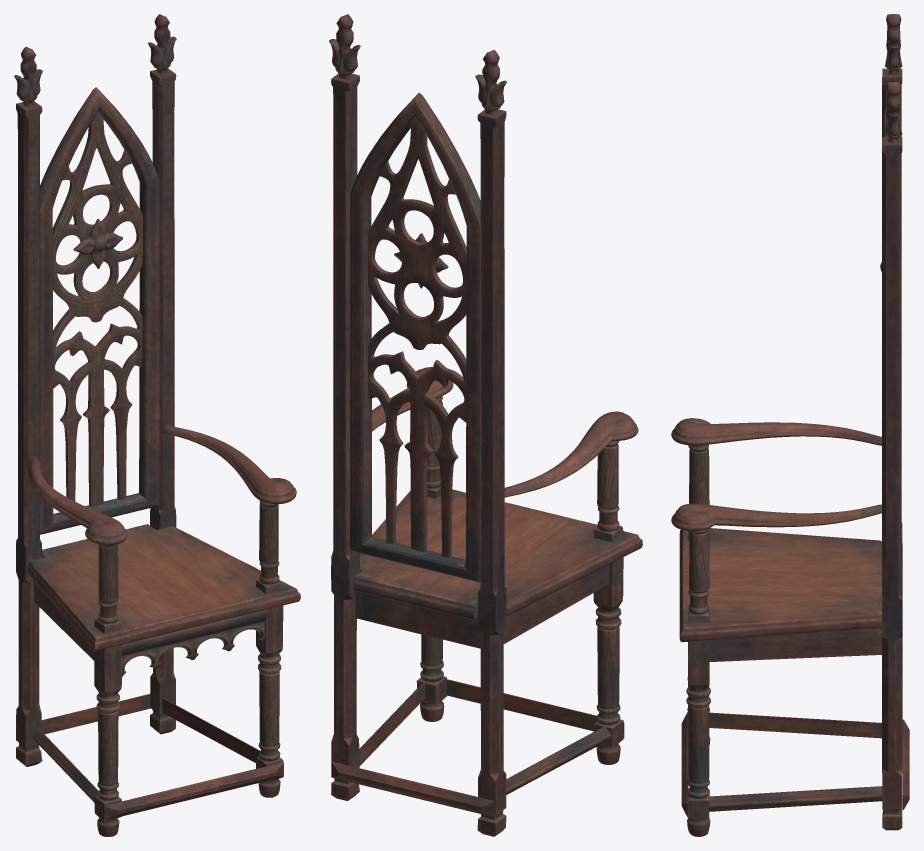
Rendered from WoodenChair_01.glb.
3 renders of one model, left to right at view 1: azimuth 30°, elevation 25°; view 2: azimuth 150°, elevation 25°; view 3: azimuth 270°, elevation 25°, orthographic. The views are drawn at different scales.
Visible parts, largest first — view 1: WoodenChair_01; view 2: WoodenChair_01; view 3: WoodenChair_01.
Part boxes in pixels (bbox=[...]): WoodenChair_01: bbox=[14, 14, 300, 836]; WoodenChair_01: bbox=[329, 14, 642, 836]; WoodenChair_01: bbox=[671, 14, 909, 836].
Bounding box in the file's own units: 0.6882 × 2.27 × 0.6585.
1 material, 1 textured.
